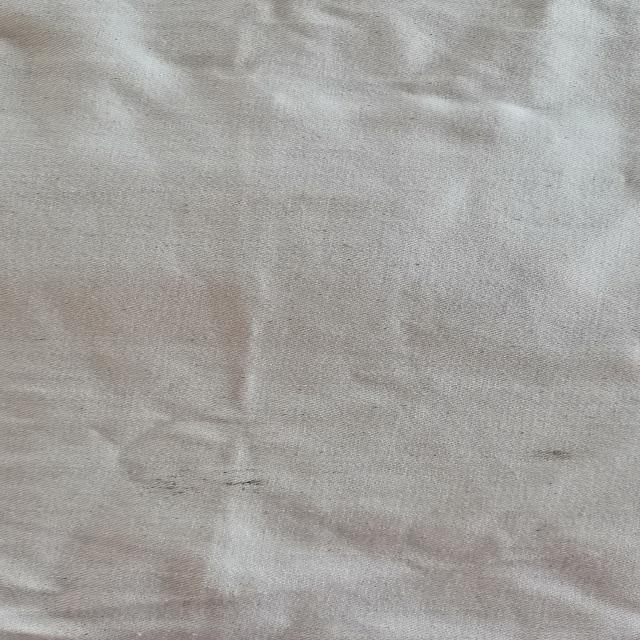taaaches: (114, 452, 300, 508), (457, 428, 592, 480)
